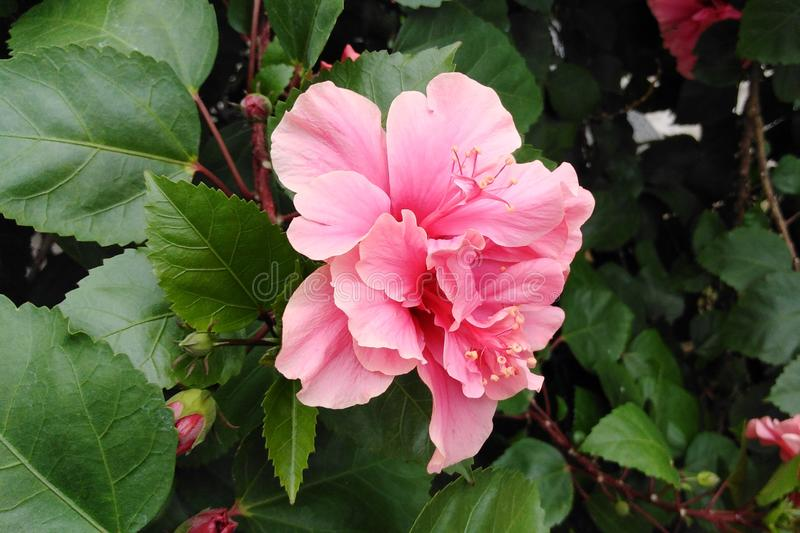Hibiscus: (277, 71, 595, 477)
